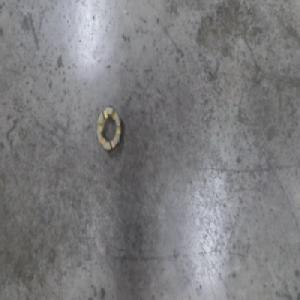Nut: (94, 103, 123, 153)
